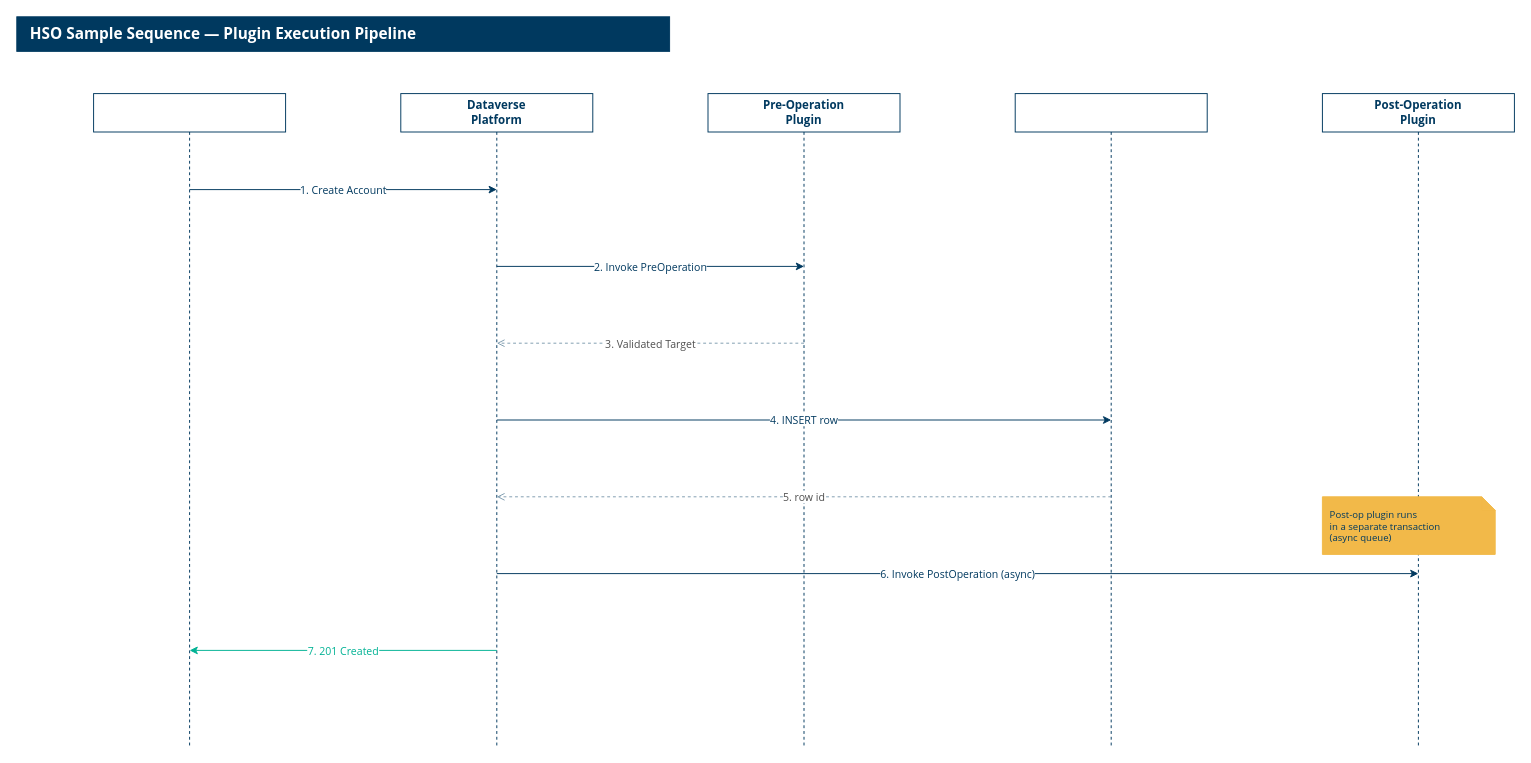
This 1531x763 diagram has some shape labels left out. Here are the shapes that lost their labels. From the top down, the box of each, then its label:
(93, 93, 286, 746): User (Model-driven App)
(1014, 93, 1207, 746): Dataverse (SQL)
